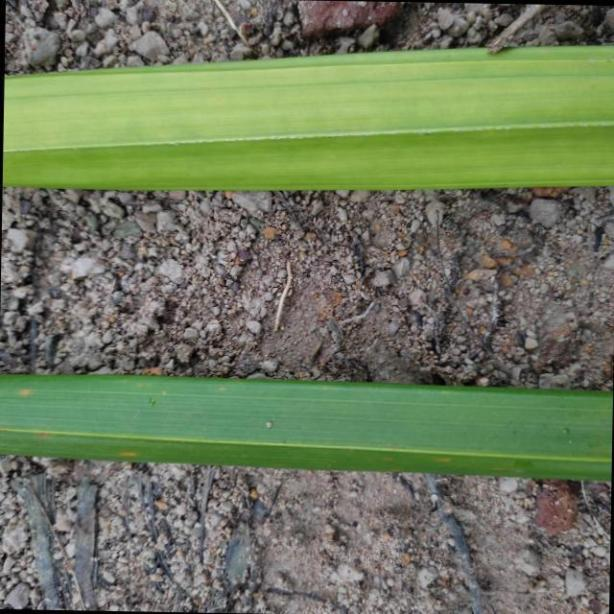nitrogen: (0, 46, 614, 192), (0, 372, 614, 483)
